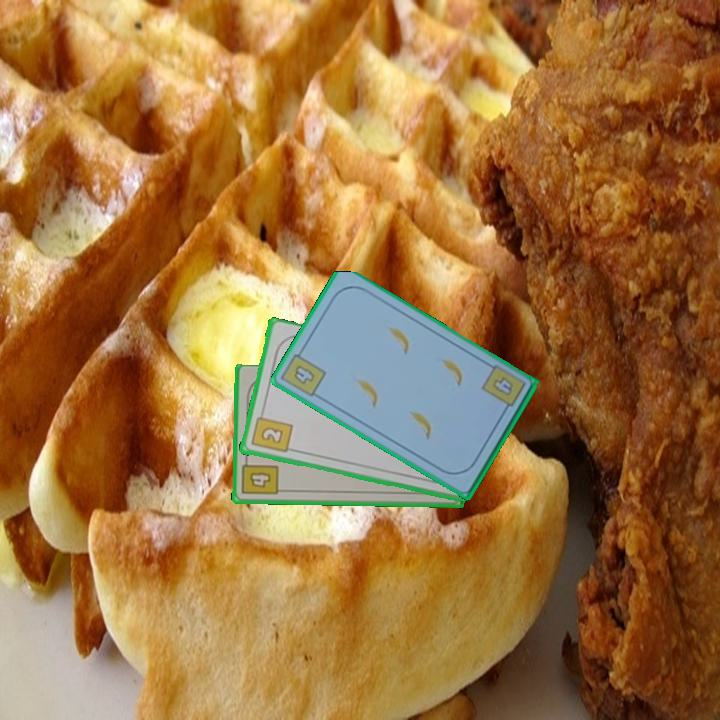2b: (247, 408, 295, 456)
4b: (279, 345, 329, 400), (239, 455, 281, 498), (488, 373, 516, 399)
